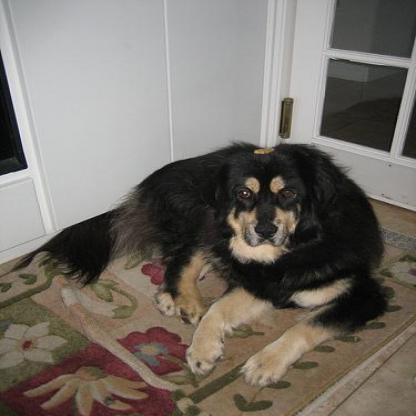Tibetan_mastiff: (10, 139, 389, 388)
